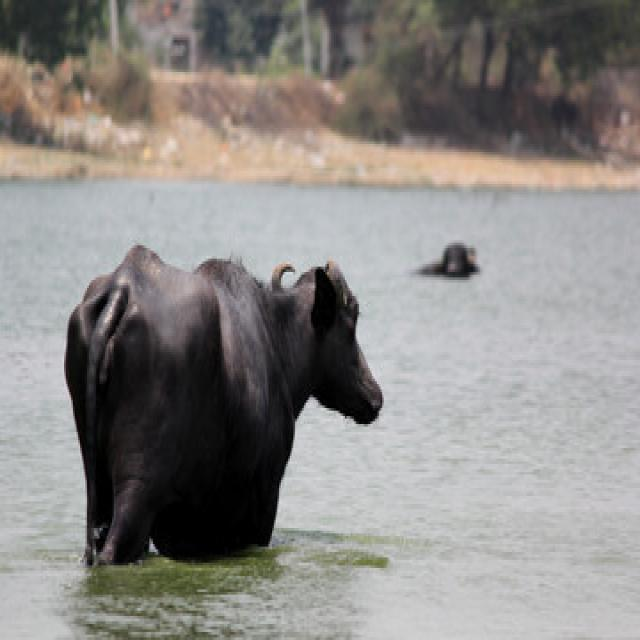Buffalo: (60, 237, 384, 568)
